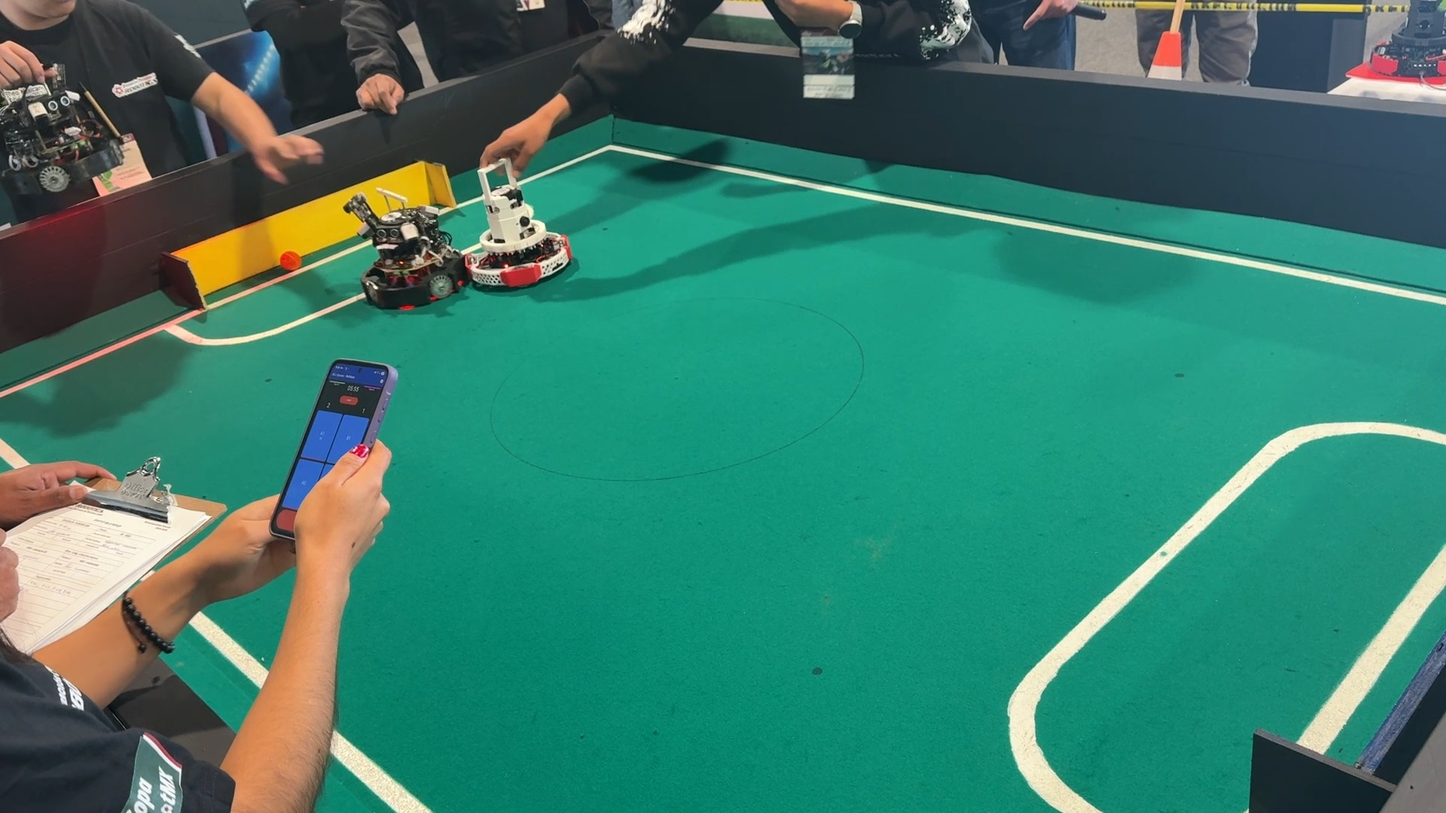Robot: (325, 186, 469, 327), (454, 146, 582, 303)
